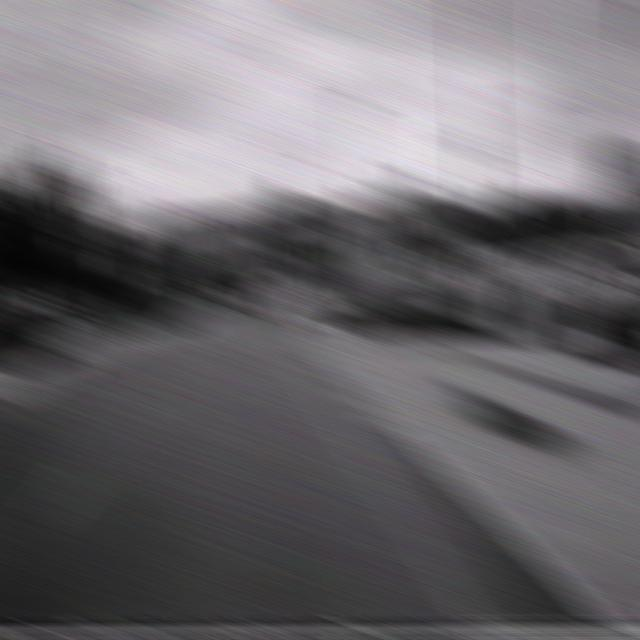stop_sign: (308, 212, 342, 251)
